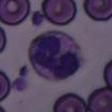N: (29, 31, 89, 80)
